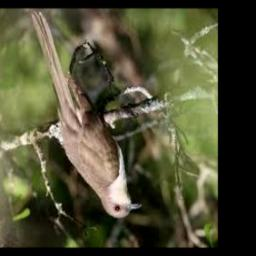Cuckoo: (33, 11, 142, 219)
